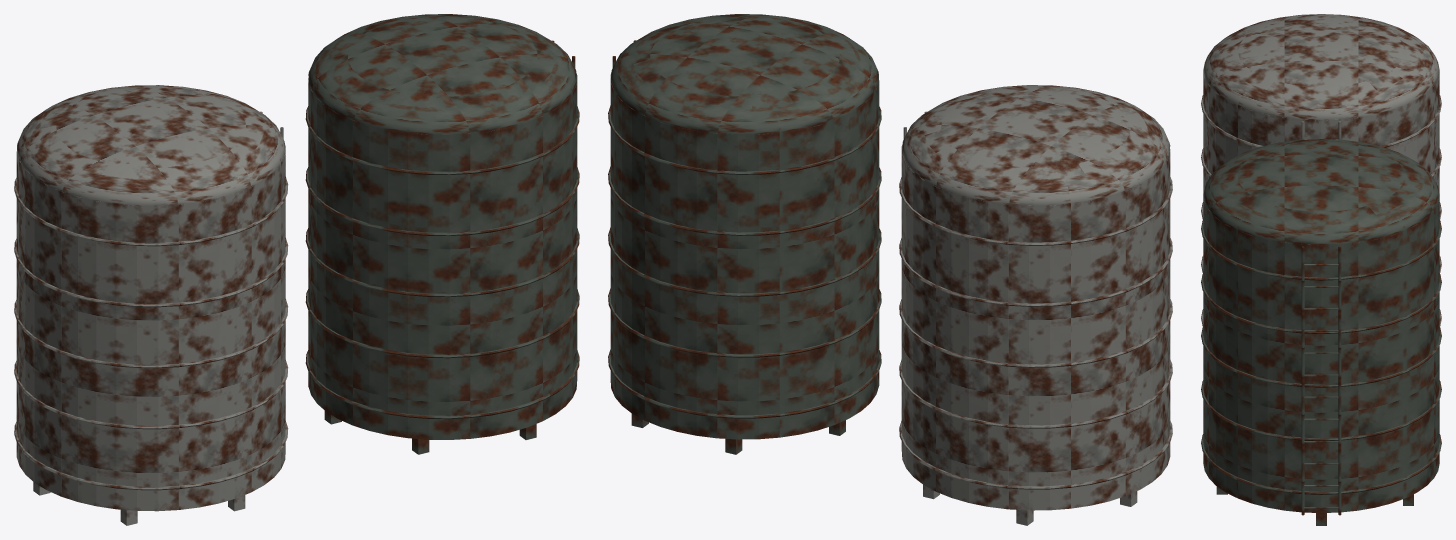
File: HM15_StorageTank.glb
3 views of the same model, side by side, from view 1: azimuth 30°, elevation 25°; view 2: azimuth 150°, elevation 25°; view 3: azimuth 270°, elevation 25° (orthographic). The views are drawn at different scales.
Visible parts, largest first — view 1: HM15_StorageTank; view 2: HM15_StorageTank; view 3: HM15_StorageTank.
Boxes of the visible parts, x1,y1,x2,y2 form: HM15_StorageTank: (14,14,579,525); HM15_StorageTank: (608,14,1172,525); HM15_StorageTank: (1201,14,1441,525).
Size of the model in its own units: 5 by 3.19 by 2.23.
2 materials, 2 textured.
